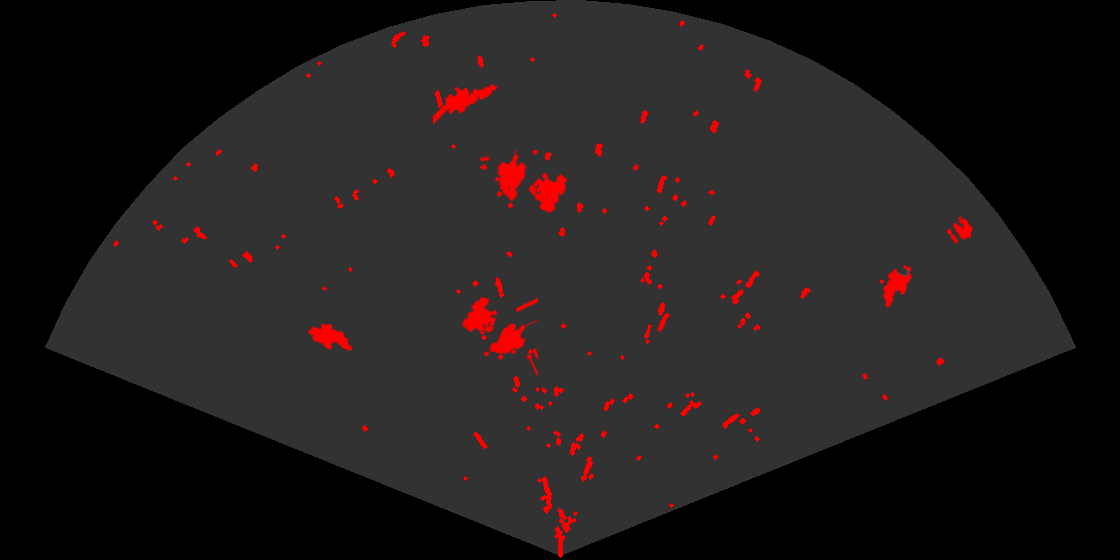AUV: (881, 263, 913, 309), (307, 322, 354, 352)
ball: (945, 217, 974, 245)
cage: (461, 295, 538, 379), (480, 150, 569, 215)
frogman: (433, 83, 499, 126)
